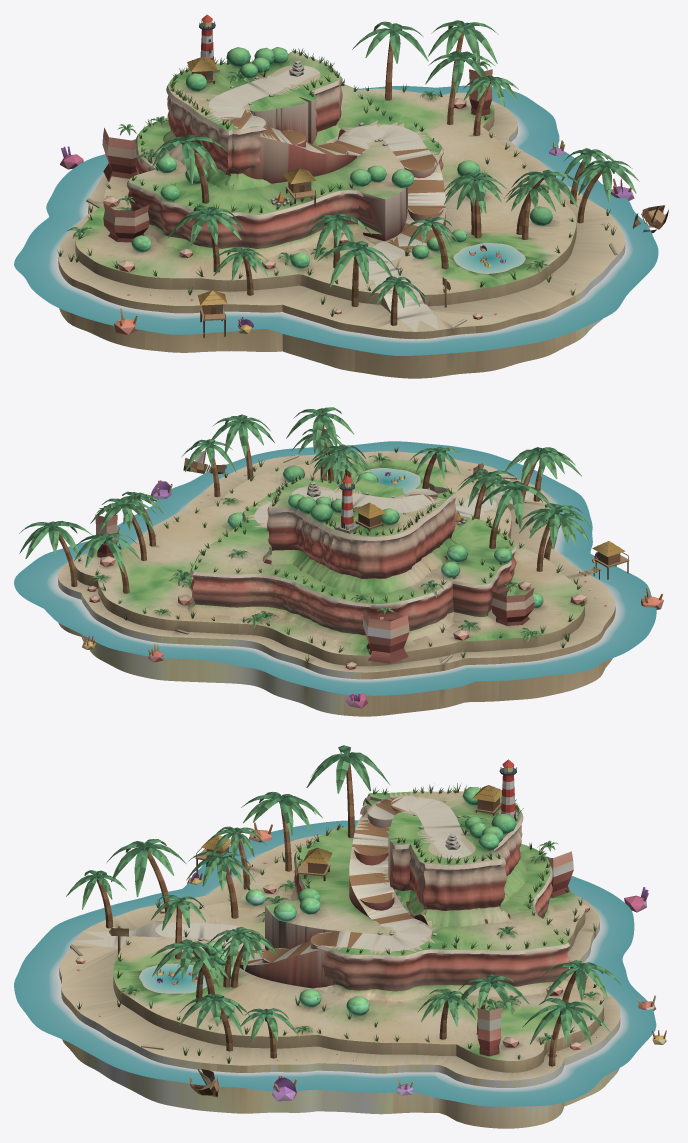
The model's file is ReefIsland.glb.
3 renders of one model, top to bottom at view 1: azimuth 30°, elevation 25°; view 2: azimuth 150°, elevation 25°; view 3: azimuth 270°, elevation 25°, orthographic. The views are drawn at different scales.
Parts seen in each view (by area): view 1: Lit, Unlit, Soft; view 2: Lit, Unlit, Soft; view 3: Lit, Unlit, Soft.
Part boxes in pixels (box(x1,y1,x2,y2)): Lit: box(57, 14, 668, 378); Unlit: box(14, 22, 658, 355); Soft: box(131, 47, 552, 268); Lit: box(19, 407, 663, 716); Unlit: box(14, 441, 656, 695); Soft: box(227, 465, 543, 608); Lit: box(59, 745, 666, 1128); Unlit: box(14, 767, 656, 1106); Soft: box(205, 787, 516, 1019).
Bounding box in the file's own units: 6.26 × 2.24 × 6.1.
